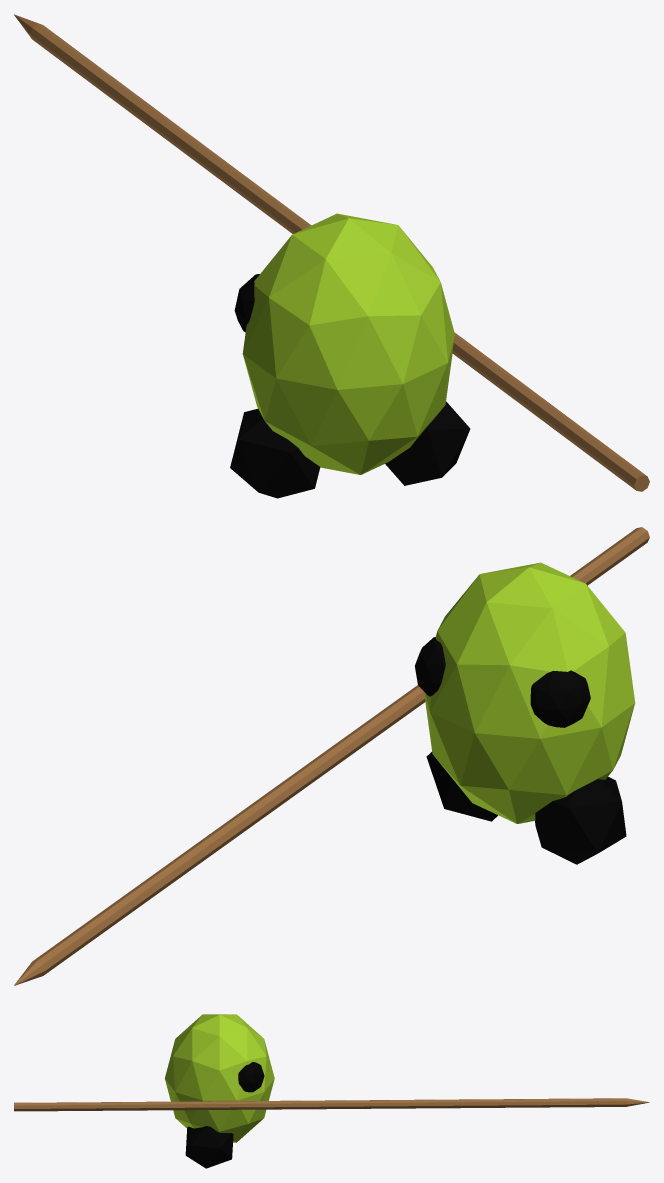
File: walk.f0005.glb
The picture shows the model from 3 angles, top to bottom: view 1: azimuth 30°, elevation 25°; view 2: azimuth 150°, elevation 25°; view 3: azimuth 270°, elevation 25°; orthographic projection. The views are drawn at different scales.
Visible parts, largest first — view 1: Body.001; view 2: Body.001; view 3: Body.001.
Boxes of the visible parts, box(x1,y1,x2,y2) form: Body.001: box(14, 14, 649, 498); Body.001: box(14, 527, 649, 985); Body.001: box(14, 1014, 649, 1168).
Size of the model in its own units: 2.17 by 2.79 by 11.56.
1 material, 1 textured.
